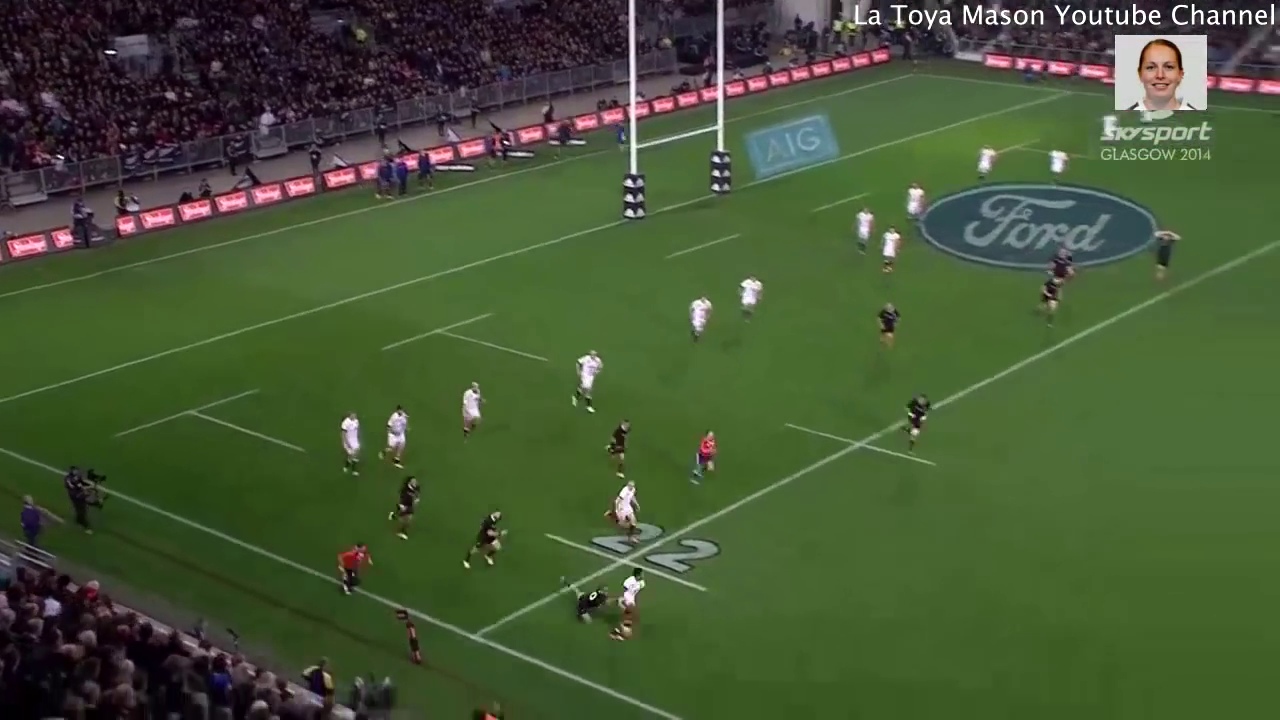player: (593, 477, 652, 554), (553, 570, 620, 635), (556, 339, 608, 421), (455, 502, 511, 577), (369, 398, 421, 476), (377, 469, 427, 545), (606, 563, 651, 643), (1138, 222, 1184, 296), (444, 373, 489, 448), (894, 385, 937, 461), (681, 424, 727, 495), (1024, 267, 1071, 336), (595, 408, 634, 485), (867, 294, 909, 363), (332, 537, 375, 602), (675, 288, 719, 350), (333, 408, 369, 483), (728, 266, 769, 328), (844, 200, 882, 264), (1044, 240, 1085, 299), (969, 132, 1004, 195), (866, 219, 904, 276), (895, 173, 927, 239), (1042, 134, 1074, 196)
post: (610, 4, 746, 230)
